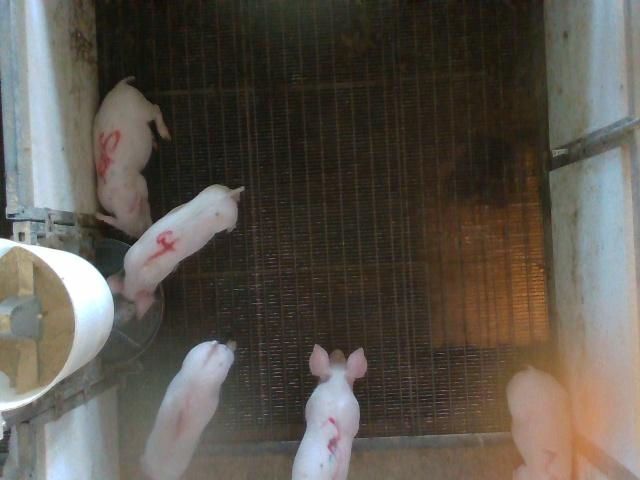pig-1: (141, 341, 235, 479)
pig-2: (508, 366, 572, 478)
pig-3: (292, 345, 366, 478)
pig-4: (108, 188, 243, 318)
pig-5: (94, 76, 170, 237)
